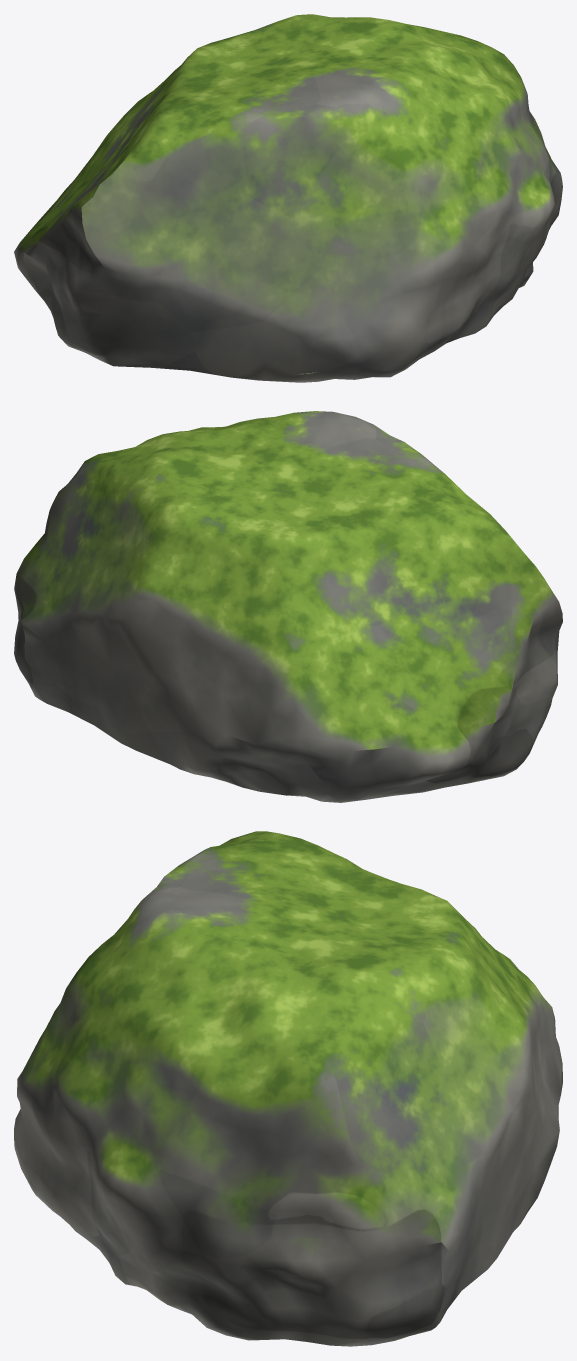
File: rock_boulder_mossy.glb
The picture shows the model from 3 angles, top to bottom: view 1: azimuth 30°, elevation 25°; view 2: azimuth 150°, elevation 25°; view 3: azimuth 270°, elevation 25°; orthographic projection. The views are drawn at different scales.
Visible parts, largest first — view 1: rock_boulder_mossy; view 2: rock_boulder_mossy; view 3: rock_boulder_mossy.
Boxes of the visible parts, x1=… form: rock_boulder_mossy: x1=14, y1=14, x2=562, y2=382; rock_boulder_mossy: x1=14, y1=411, x2=562, y2=802; rock_boulder_mossy: x1=14, y1=831, x2=562, y2=1346.
Bounding box in the file's own units: 2.29 × 1.14 × 1.77.
Materials: 1 (1 with a texture image).
